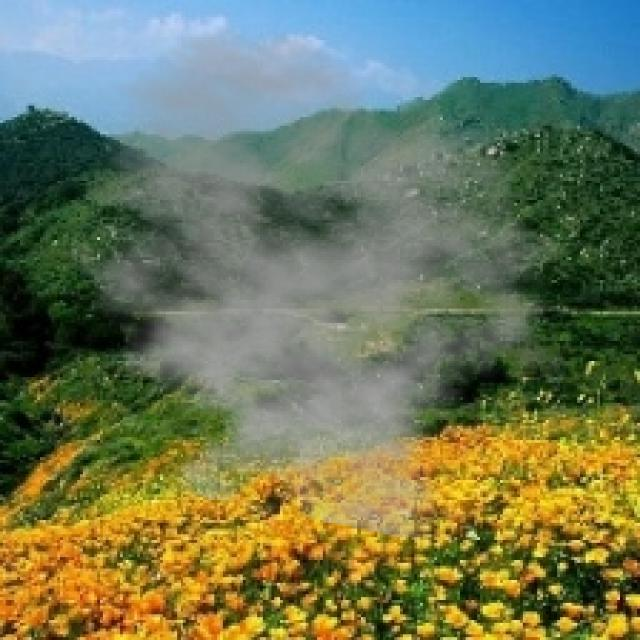smoke: (34, 26, 572, 543)
